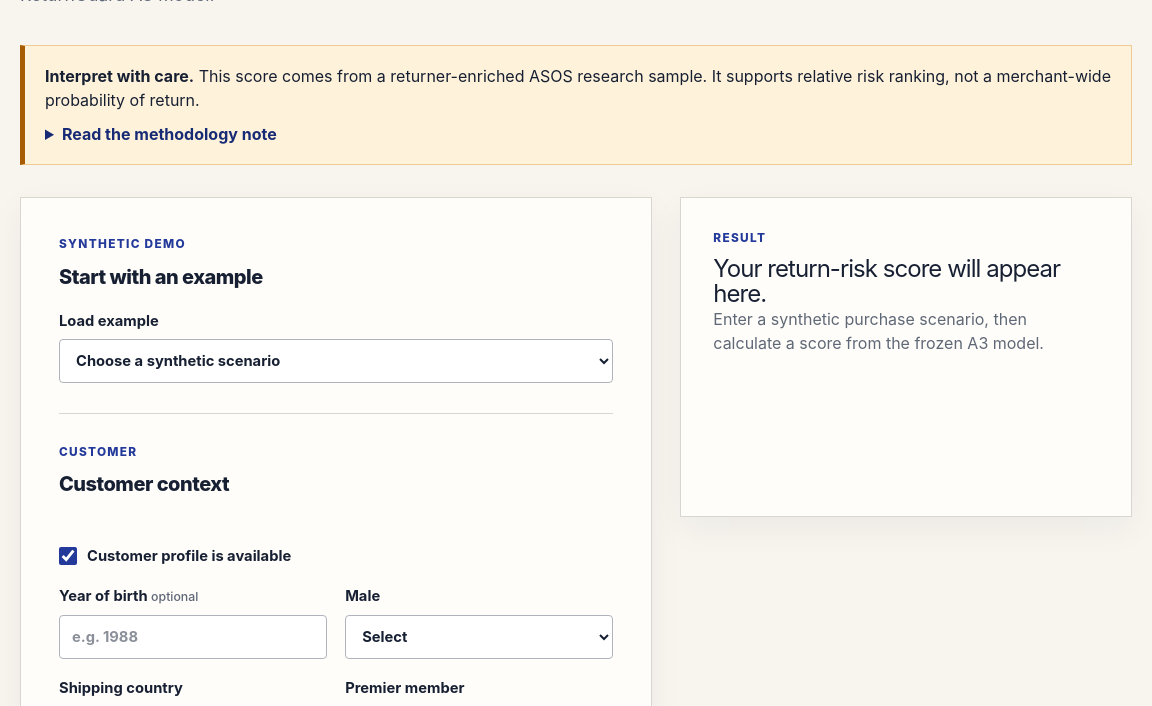
it: PredictionWorkspace › loads a synthetic preset, scores it, and keeps its opaque key out of the UI
(page scrolled)
Select "Customer profile unavailable" in the dropdown labelled "Load example": (336, 361) x1=59 y1=339 x2=613 y2=383
(page scrolled)
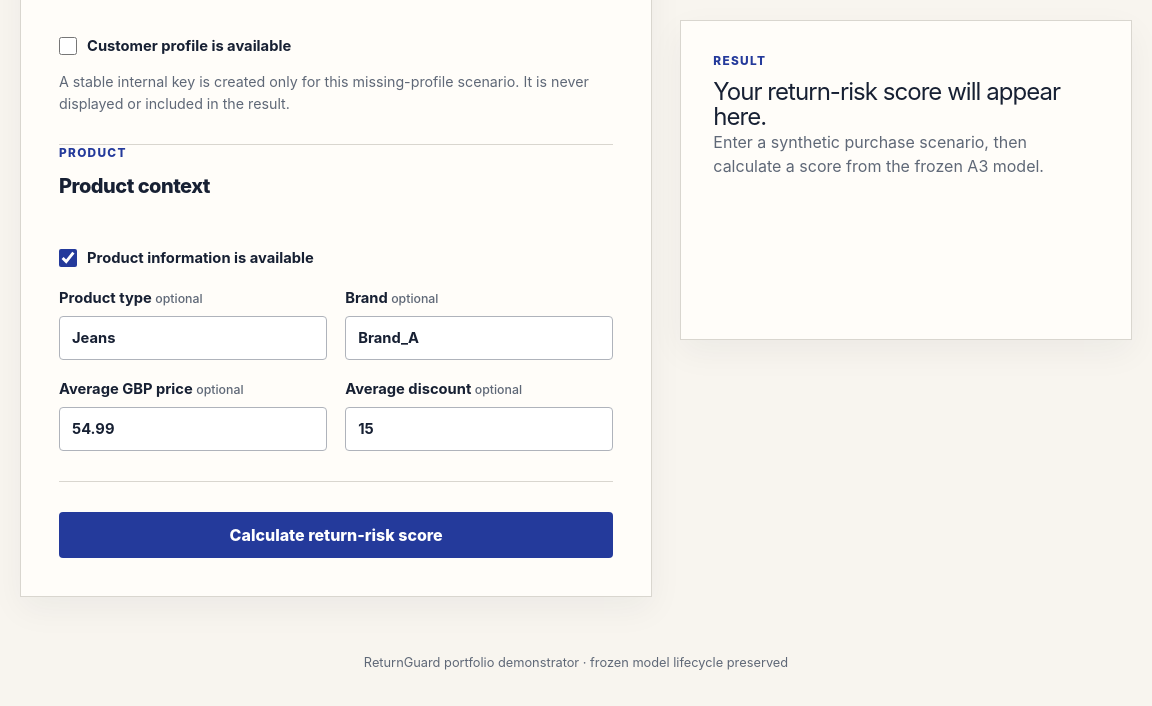
Click the button "Calculate return-risk score": (336, 535) x1=59 y1=512 x2=613 y2=558
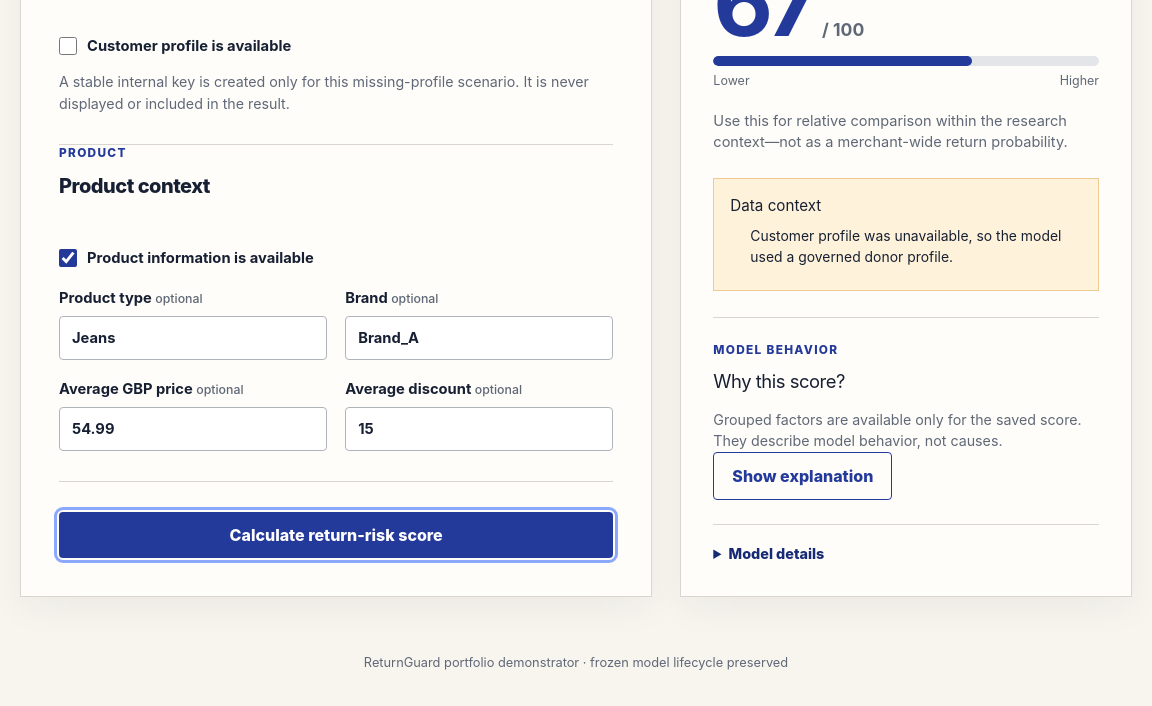
Check: the list item "governed donor profile" is shown, box x1=750 y1=228 x2=1061 y2=265
